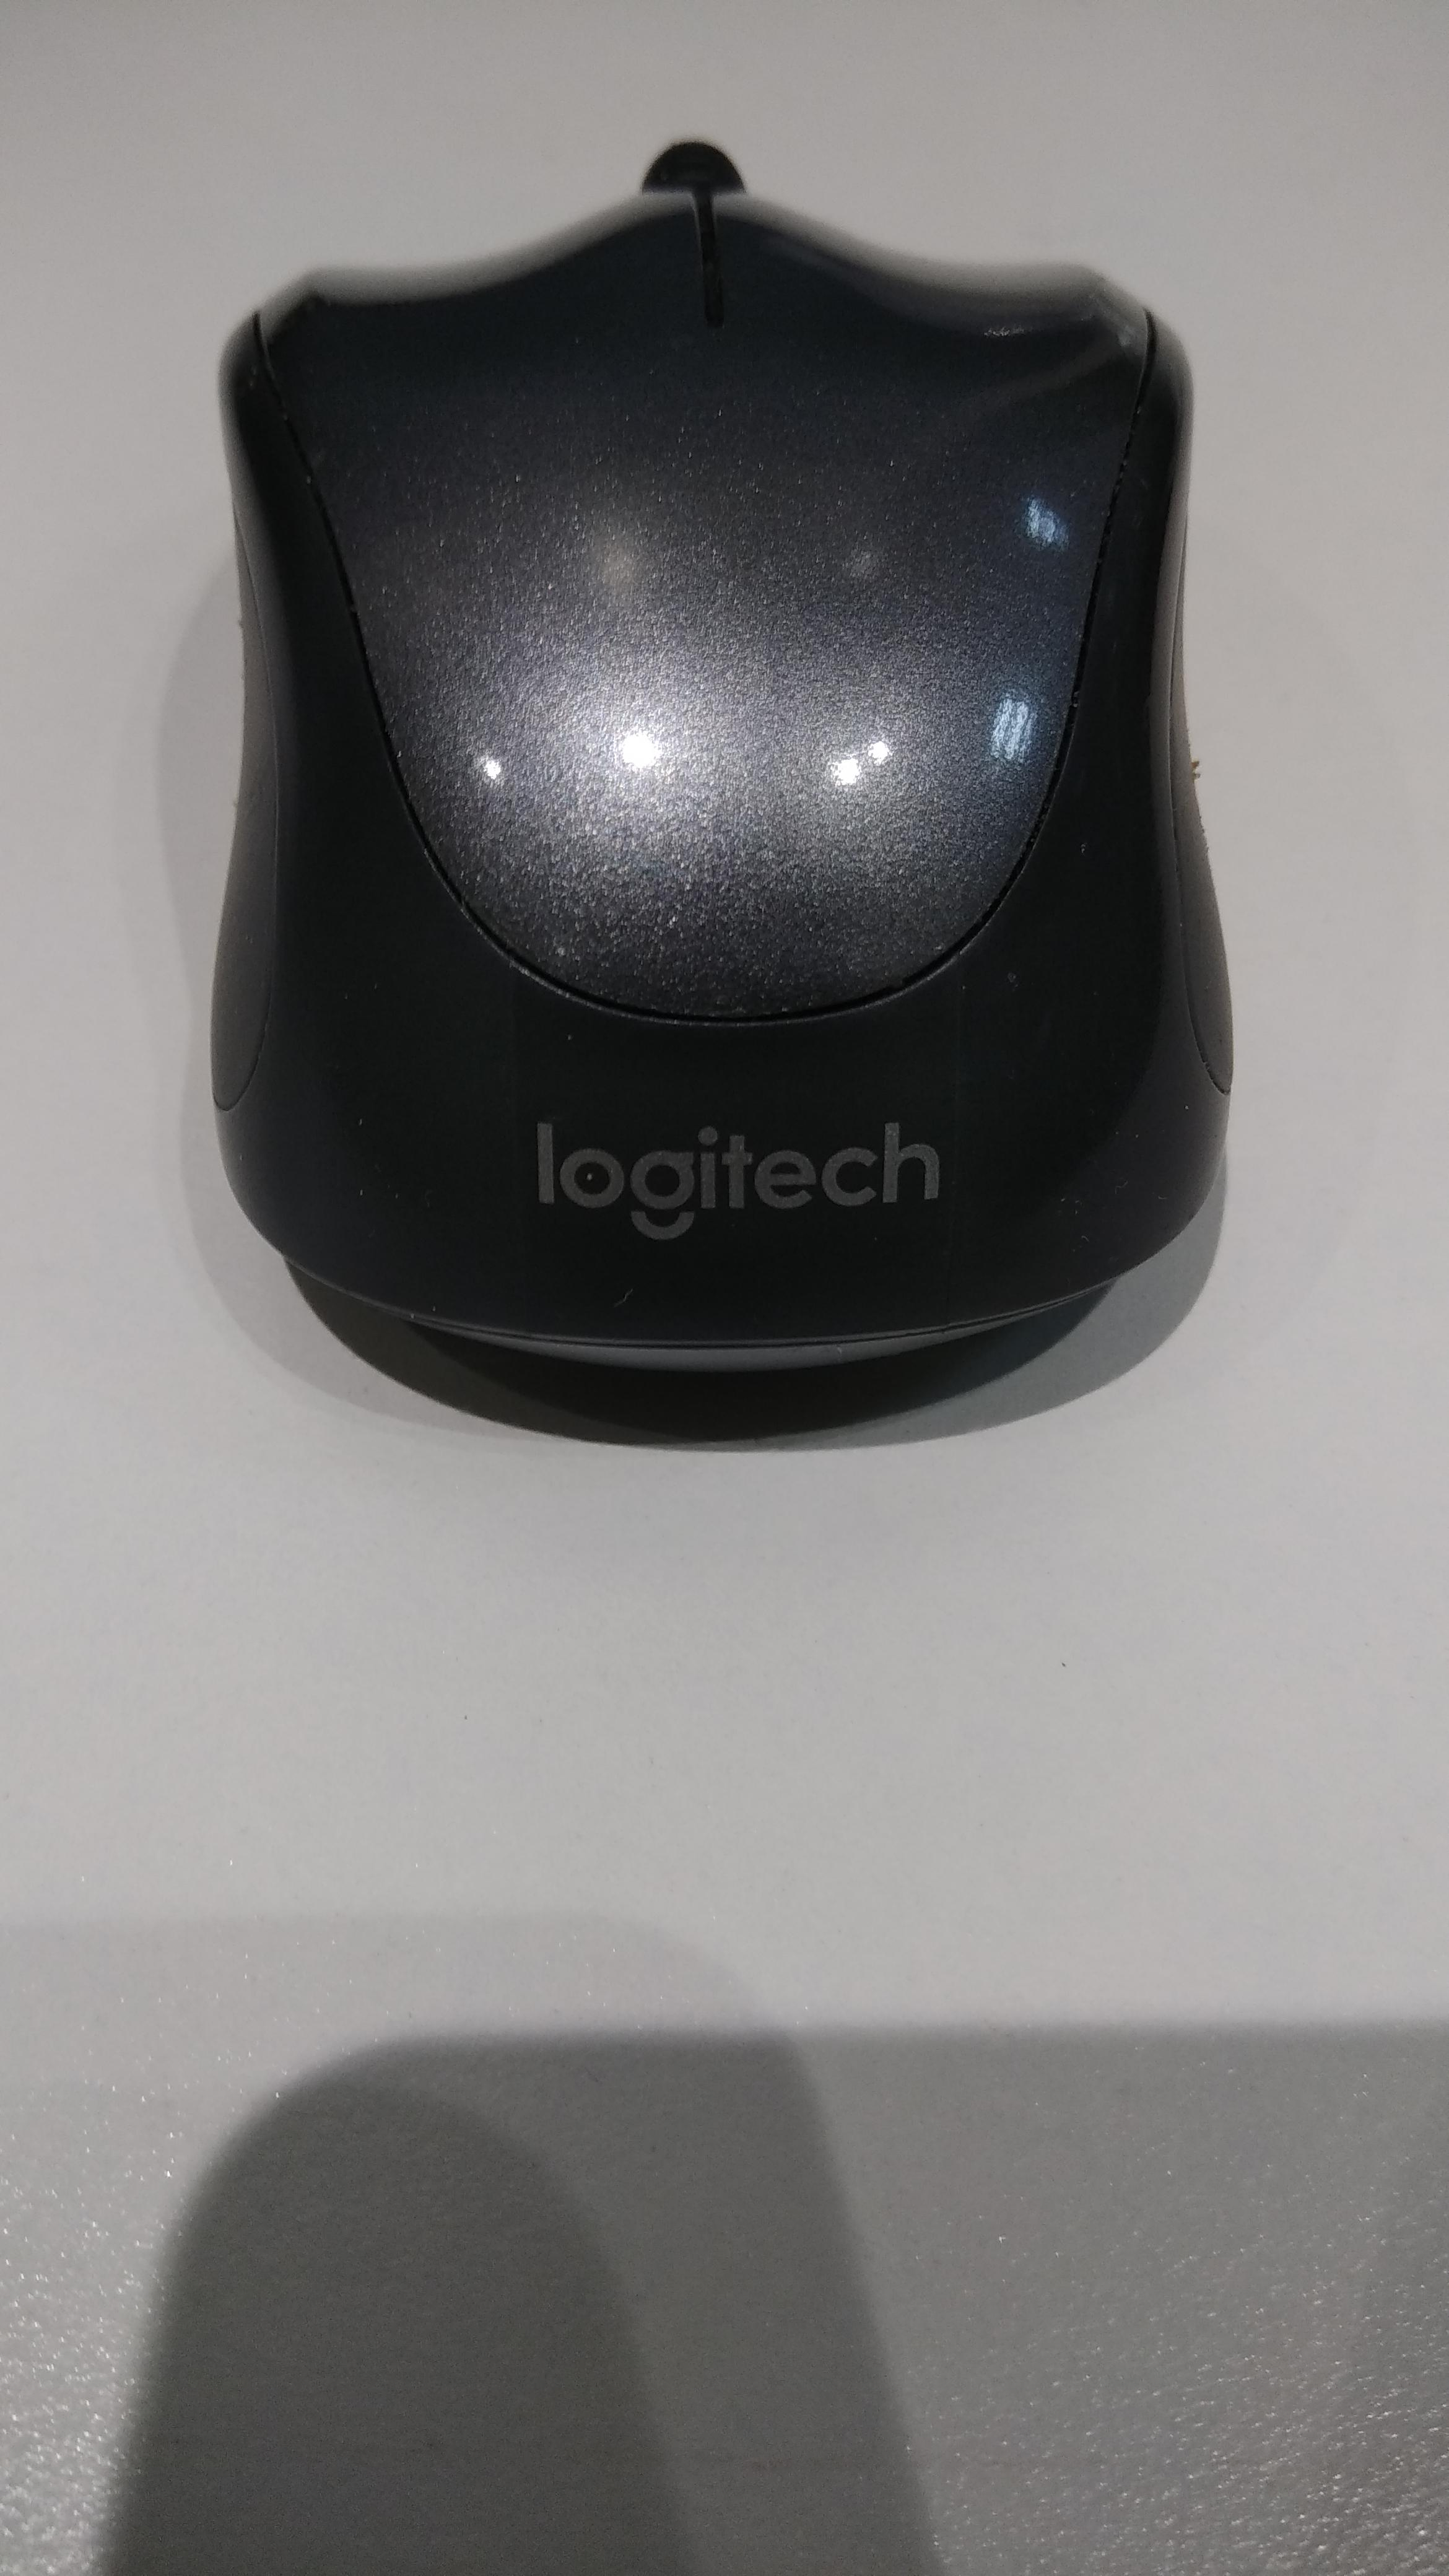mouse: (165, 97, 1284, 1500)
